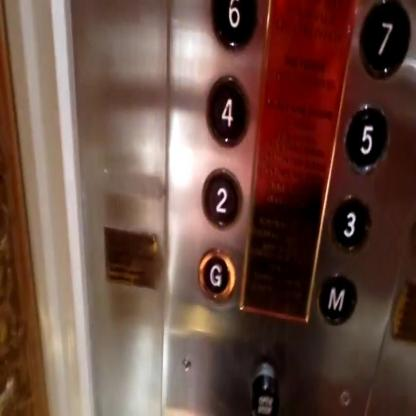2: (200, 164, 244, 232)
3: (332, 195, 370, 250)
4: (204, 69, 252, 151)
5: (343, 102, 390, 174)
7: (358, 0, 411, 80)
G: (197, 244, 236, 305)
M: (318, 273, 356, 325)
text_blur: (250, 363, 279, 415)
